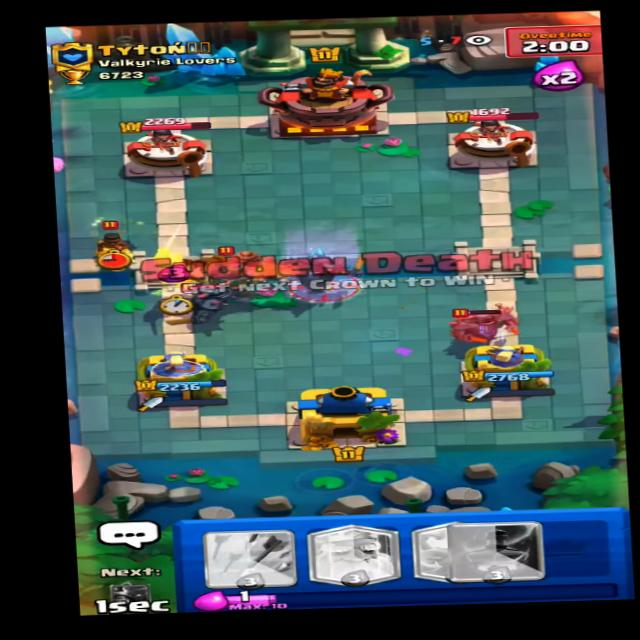Goblinmachine: (197, 244, 273, 285)
Pekka: (155, 280, 252, 325), (440, 300, 527, 345)
Ramrider: (85, 216, 139, 271)
